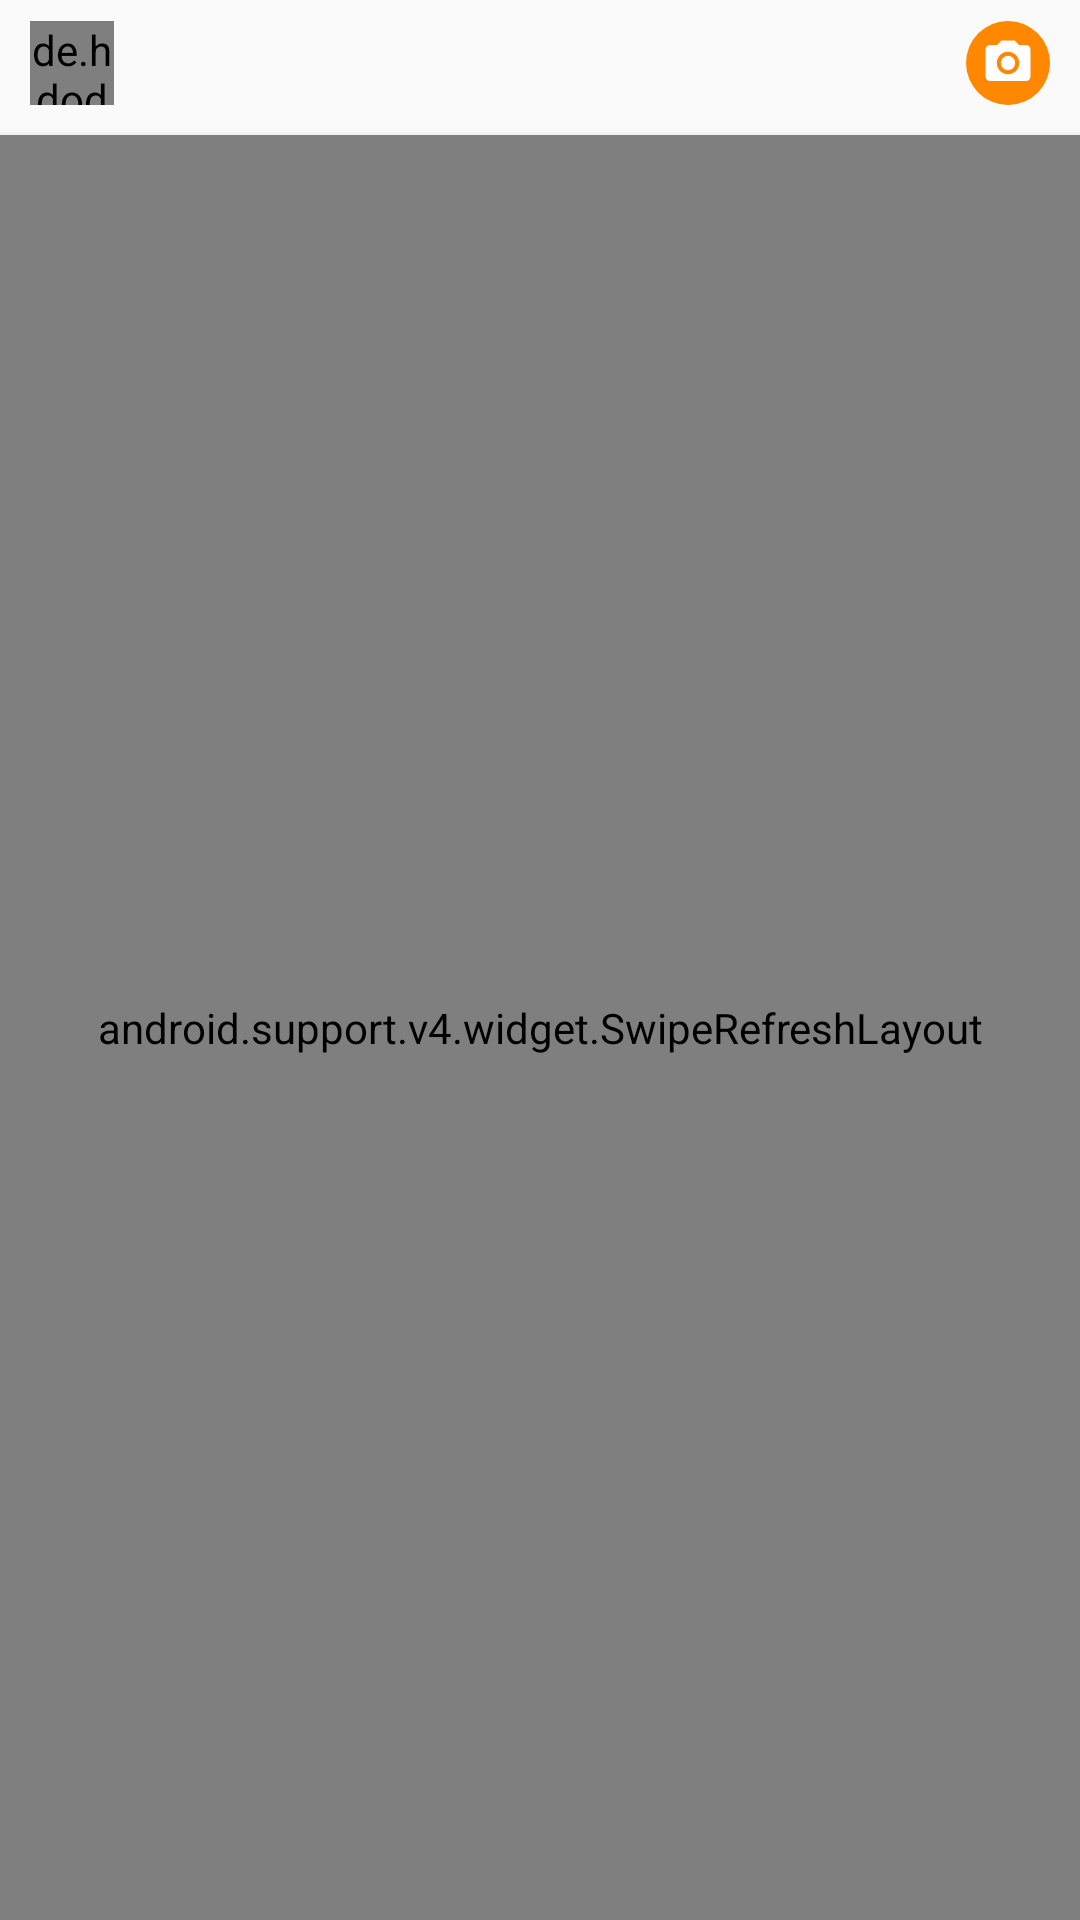

Where icons sit on this 1080x1920 app screen, as [x1, y1, x2, y2]:
camera: [966, 21, 1050, 105]
